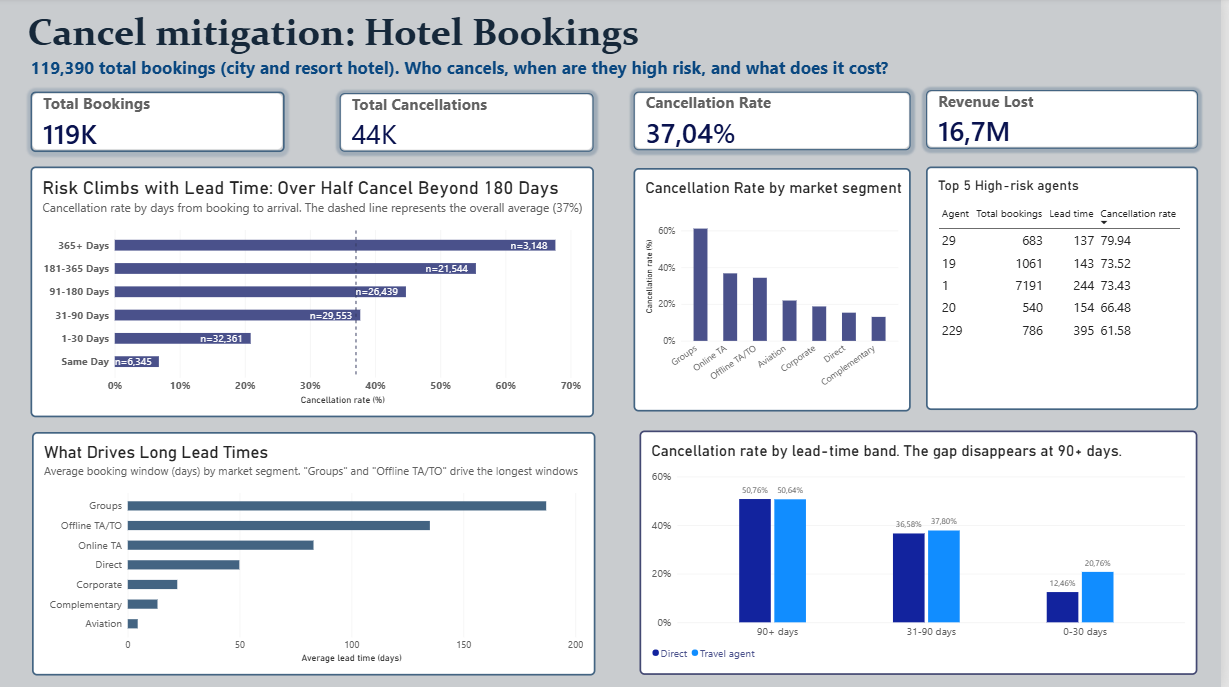

The page's visual inventory and layout, read from the dashboard file:
{"tool":"powerbi","page":{"name":"Page 1","canvas":[1920,1080],"ordinal":0},"visuals":[{"type":"cardVisual","fields":{"Data":["hotel_bookings.Total Bookings"]},"box":[58.3,147.2,397.2,94.4],"z":0},{"type":"cardVisual","fields":{"Data":["hotel_bookings.Total Cancellations"]},"box":[541.7,150,397.2,91.7],"z":1000},{"type":"cardVisual","fields":{"Data":["hotel_bookings.Cancellation Rate"]},"box":[1000,147.2,433.3,91.7],"z":2000},{"type":"cardVisual","fields":{"Data":["hotel_bookings.Revenue Lost"]},"box":[1458.3,144.4,425,91.7],"z":3000},{"type":"textbox","box":[52.8,19.4,1700,100],"z":4000},{"type":"textbox","box":[58.3,91.7,1744.4,52.8],"z":5000},{"type":"clusteredBarChart","title":"Risk Climbs with Lead Time: Over Half Cancel Beyond 180 Days","fields":{"Category":["hotel_bookings.Lead Time Bucket"],"Y":["hotel_bookings.Cancellation Rate"]},"box":[58.3,263.9,880.6,391.7],"z":6000},{"type":"clusteredBarChart","title":"What Drives Long Lead Times","fields":{"Category":["hotel_bookings.market_segment"],"Y":["hotel_bookings.Avg Lead Time"]},"box":[61.1,680.6,880.6,380.6],"z":7000},{"type":"clusteredColumnChart","title":"Cancellation Rate by market segment","fields":{"Category":["hotel_bookings.market_segment"],"Y":["hotel_bookings.Cancellation Rate"]},"box":[1000,266.7,433.3,380.6],"z":9000},{"type":"tableEx","title":"Top 5 High-risk agents","fields":{"Values":["agents.agent","agents.Total bookings","agents.Lead time","agents.cancel_rate_pct"]},"box":[1458.3,263.9,425,380.6],"z":9001},{"type":"clusteredColumnChart","title":"Cancellation rate by lead-time band. The gap disappears at 90+ days.","fields":{"Category":["hotel_bookings.Lead Time Band"],"Series":["hotel_bookings.Booking Source 2"],"Y":["hotel_bookings.Cancellation Rate"]},"box":[1010.5,677.6,872.1,382.2],"z":9002}]}

Visuals, with their boxes in screenshot pixels (x1, y1, x2, y2), scaled from the page's 1920x1080 canvas onto the 1229x687 screenshot:
cardVisual - hotel_bookings.Total Bookings: Rect(37, 94, 292, 154)
cardVisual - hotel_bookings.Total Cancellations: Rect(347, 95, 601, 154)
cardVisual - hotel_bookings.Cancellation Rate: Rect(640, 94, 917, 152)
cardVisual - hotel_bookings.Revenue Lost: Rect(933, 92, 1206, 150)
textbox: Rect(34, 12, 1122, 76)
textbox: Rect(37, 58, 1154, 92)
"Risk Climbs with Lead Time: Over Half Cancel Beyond 180 Days" clusteredBarChart: Rect(37, 168, 601, 417)
"What Drives Long Lead Times" clusteredBarChart: Rect(39, 433, 603, 675)
"Cancellation Rate by market segment" clusteredColumnChart: Rect(640, 170, 917, 412)
"Top 5 High-risk agents" tableEx: Rect(933, 168, 1206, 410)
"Cancellation rate by lead-time band. The gap disappears at 90+ days." clusteredColumnChart: Rect(647, 431, 1205, 674)
